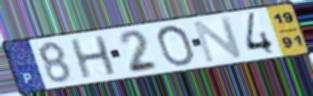2: (117, 28, 162, 75)
4: (242, 11, 278, 57)
8: (38, 41, 73, 85)
H: (68, 33, 120, 80)
N: (191, 15, 246, 65)
O: (154, 23, 197, 68)
